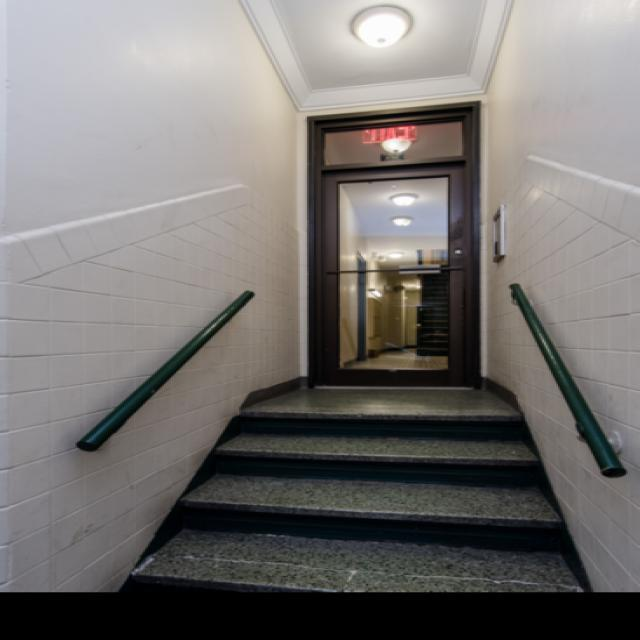stairs: (124, 381, 592, 594)
